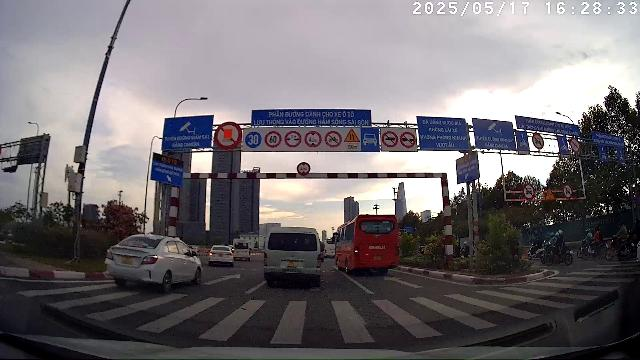103a-cam-oto: (522, 183, 536, 200), (532, 133, 545, 149), (562, 183, 573, 198)
127-toc-do-toi-da-60: (265, 130, 282, 148)
